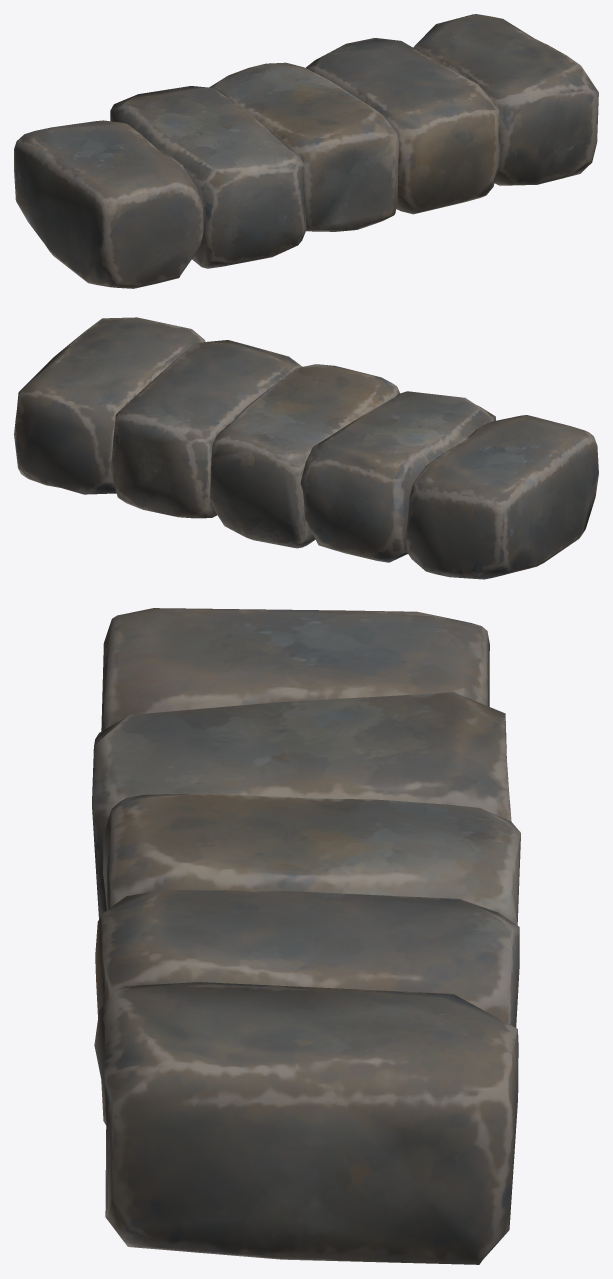
The model's file is mesh_blockRowHalf.fbx.
3 views of the same model, one above another, from view 1: azimuth 30°, elevation 25°; view 2: azimuth 150°, elevation 25°; view 3: azimuth 270°, elevation 25° (orthographic). The views are drawn at different scales.
Parts seen in each view (by area): view 1: Object118; view 2: Object118; view 3: Object118.
Part boxes in pixels (x1,y1,x2,y2): Object118: [14, 14, 598, 288]; Object118: [14, 317, 598, 579]; Object118: [92, 608, 520, 1264].
Size of the model in its own units: 227 by 47.42 by 85.64.
